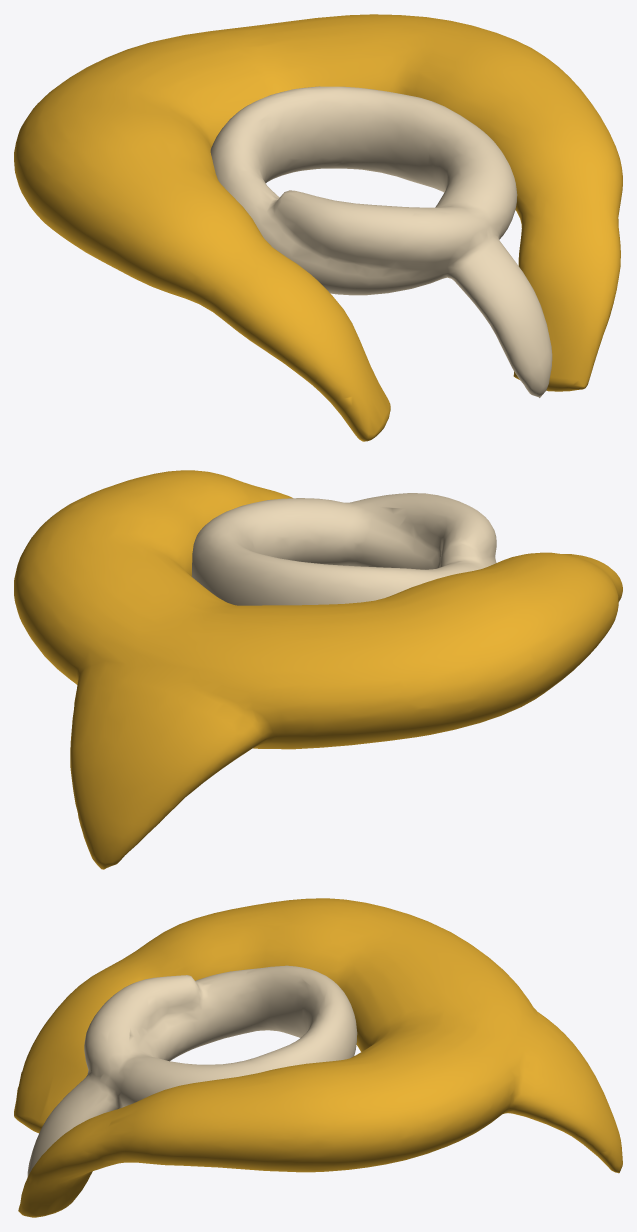
The model's file is collar_packet_v001.glb.
The picture shows the model from 3 angles, top to bottom: view 1: azimuth 30°, elevation 25°; view 2: azimuth 150°, elevation 25°; view 3: azimuth 270°, elevation 25°; orthographic projection. The views are drawn at different scales.
Visible parts, largest first — view 1: SCULPT_HOOD, SCULPT_SCARF; view 2: SCULPT_HOOD, SCULPT_SCARF; view 3: SCULPT_HOOD, SCULPT_SCARF.
Part boxes in pixels (x1,y1,x2,y2): SCULPT_HOOD: (14,14,622,441); SCULPT_SCARF: (210,86,552,397); SCULPT_HOOD: (14,470,622,869); SCULPT_SCARF: (192,493,496,605); SCULPT_HOOD: (14,898,622,1217); SCULPT_SCARF: (27,965,357,1177).
Bounding box in the file's own units: 0.3386 × 0.1349 × 0.3959.
